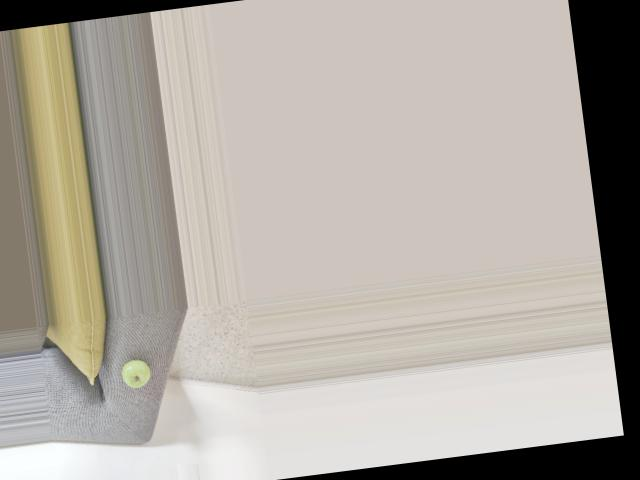apple: (118, 355, 152, 390)
